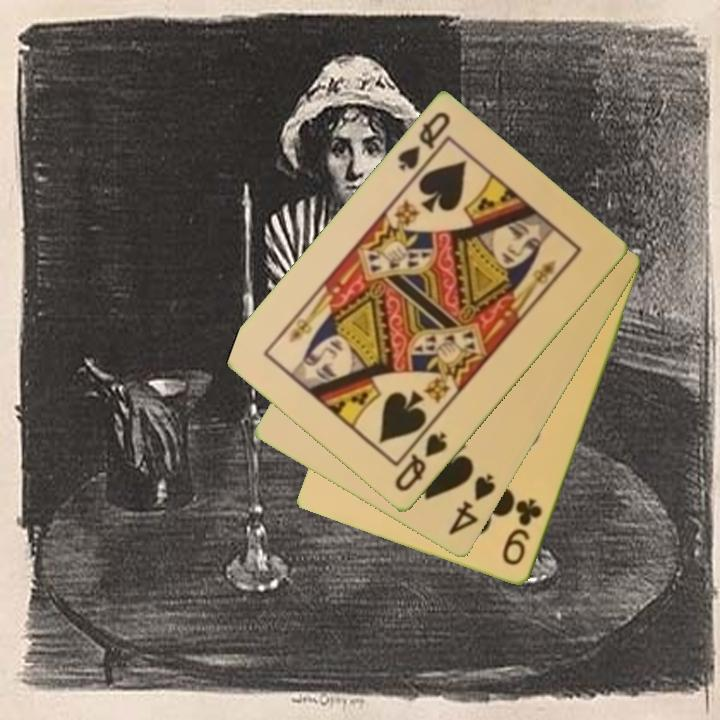4s: (445, 470, 499, 539)
9c: (499, 496, 546, 569)
Qs: (394, 108, 454, 184), (391, 428, 450, 496)
